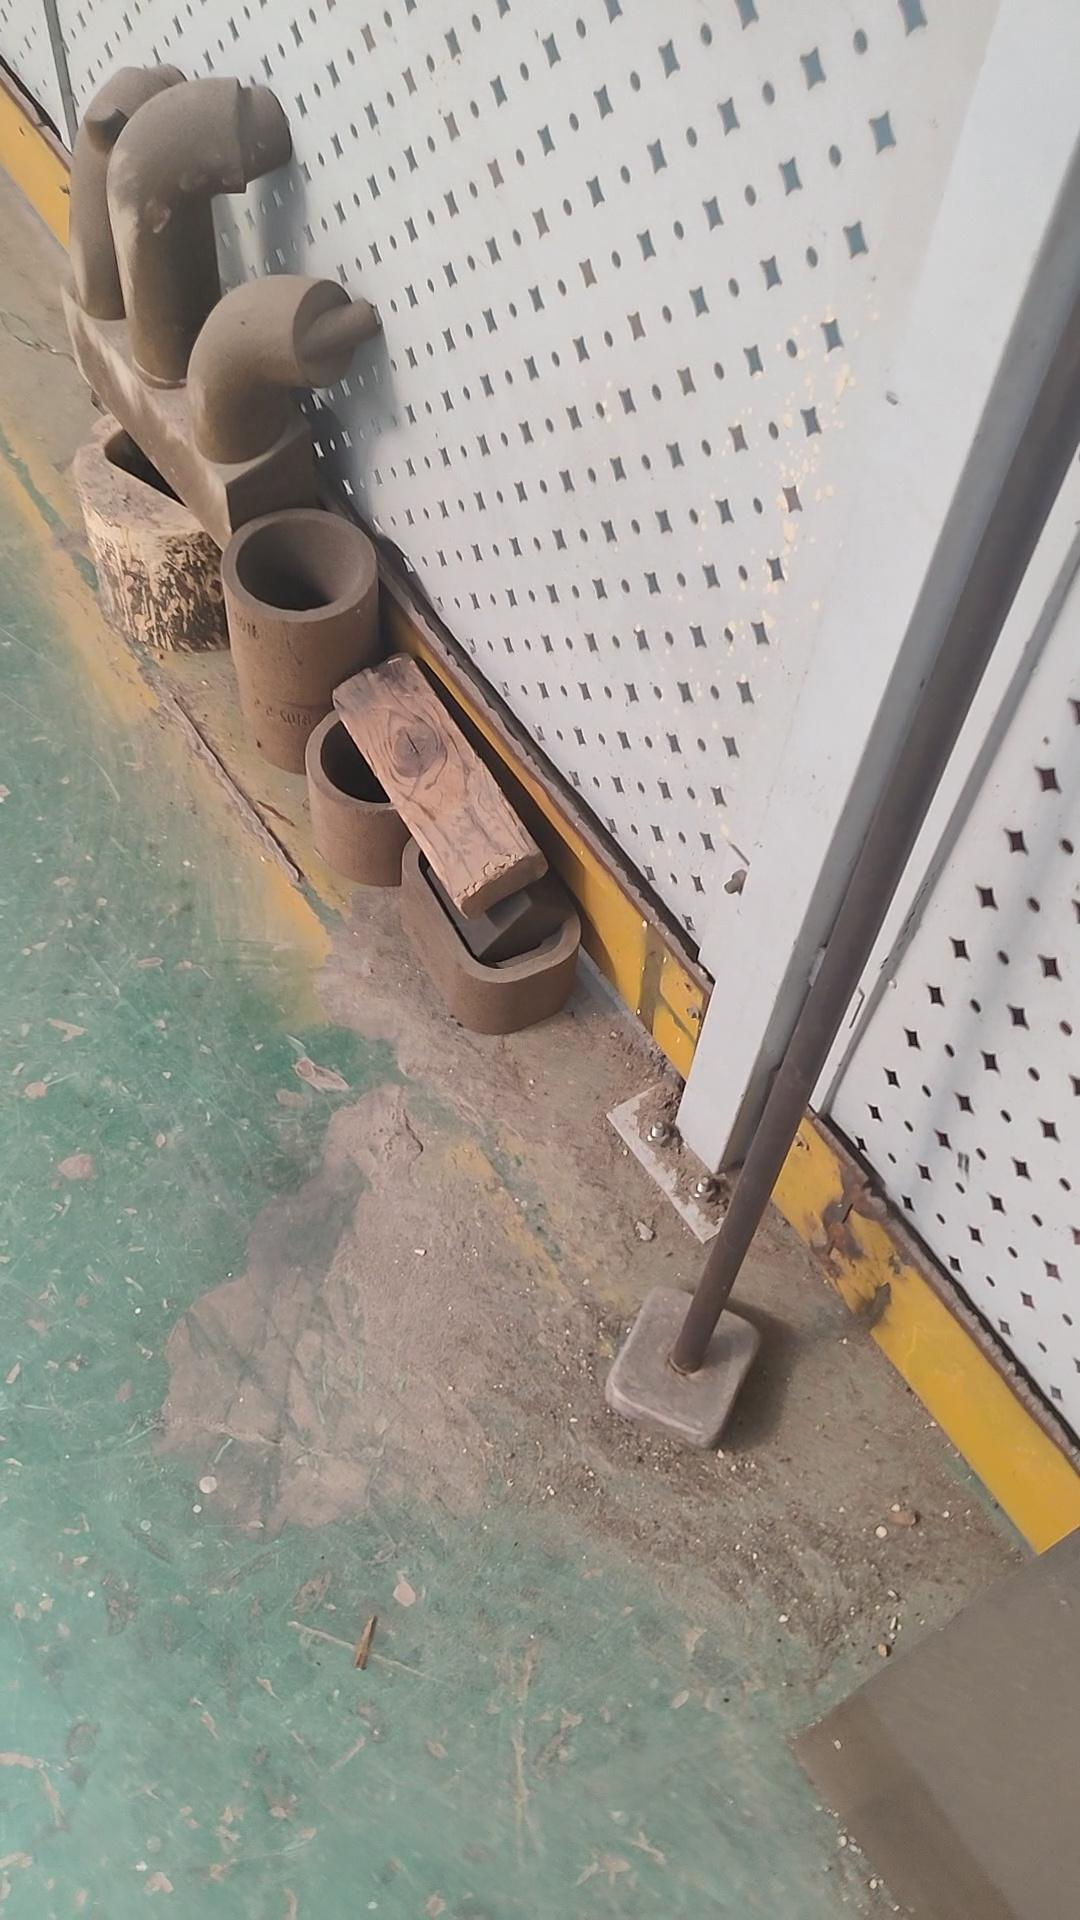pouring hole: (235, 517, 357, 611), (320, 719, 418, 802)
